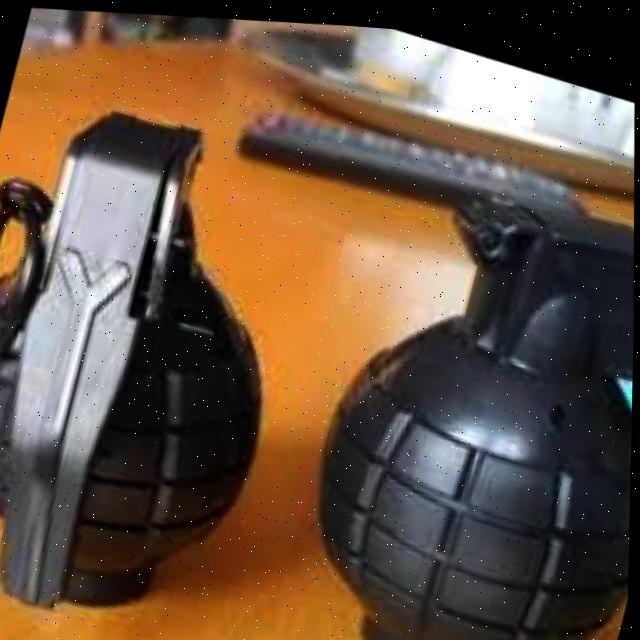grenade: (269, 146, 638, 640)
